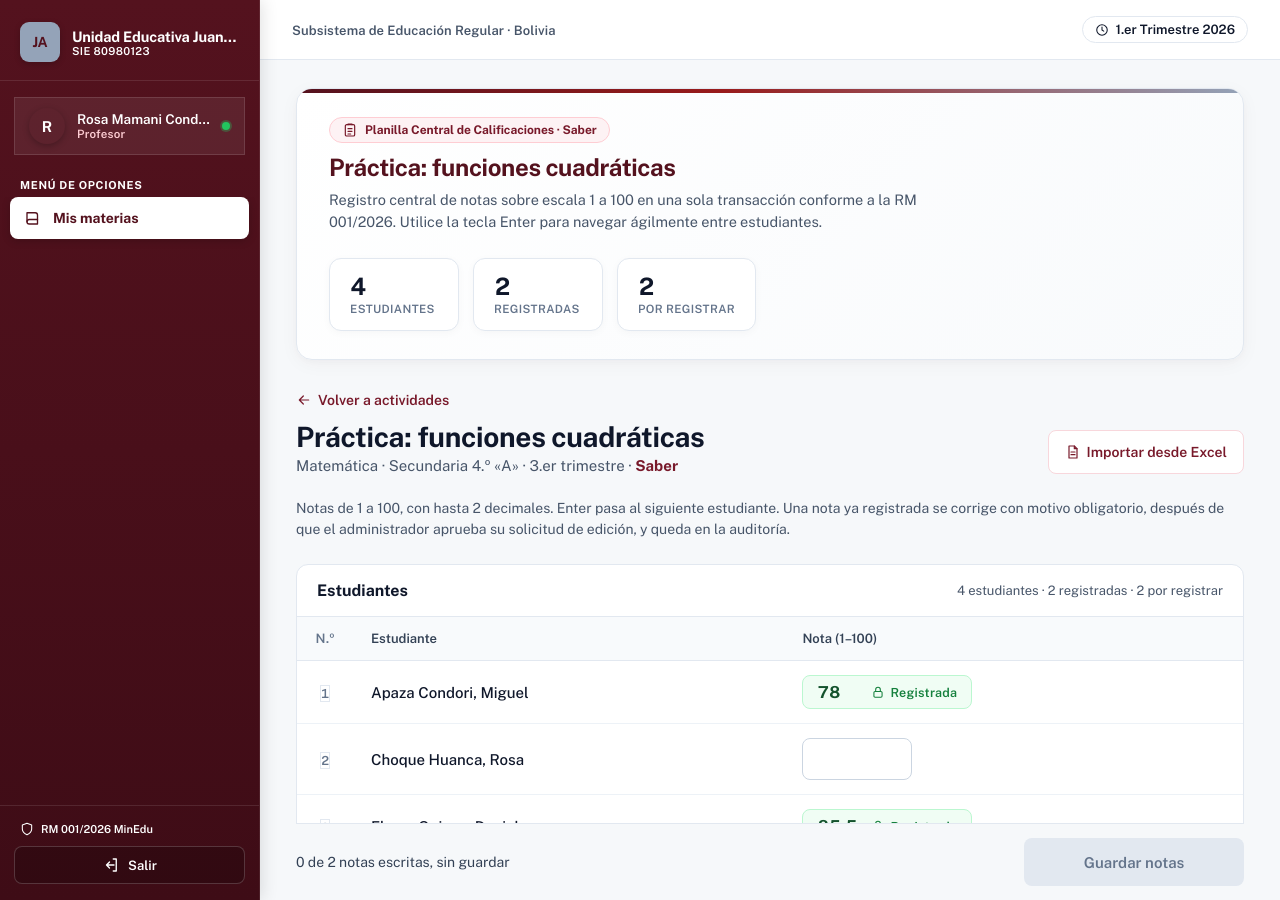
Scenario: Planilla de notas (US-01, criterios 1 a 3) › debe marcar una nota fuera de 1 a 100 junto al campo y no guardar nada
The image size is (1280, 900).
Type "105" into the field named "Nota de Choque Huanca, Rosa". click: (858, 759)
box: [802,738,912,780]
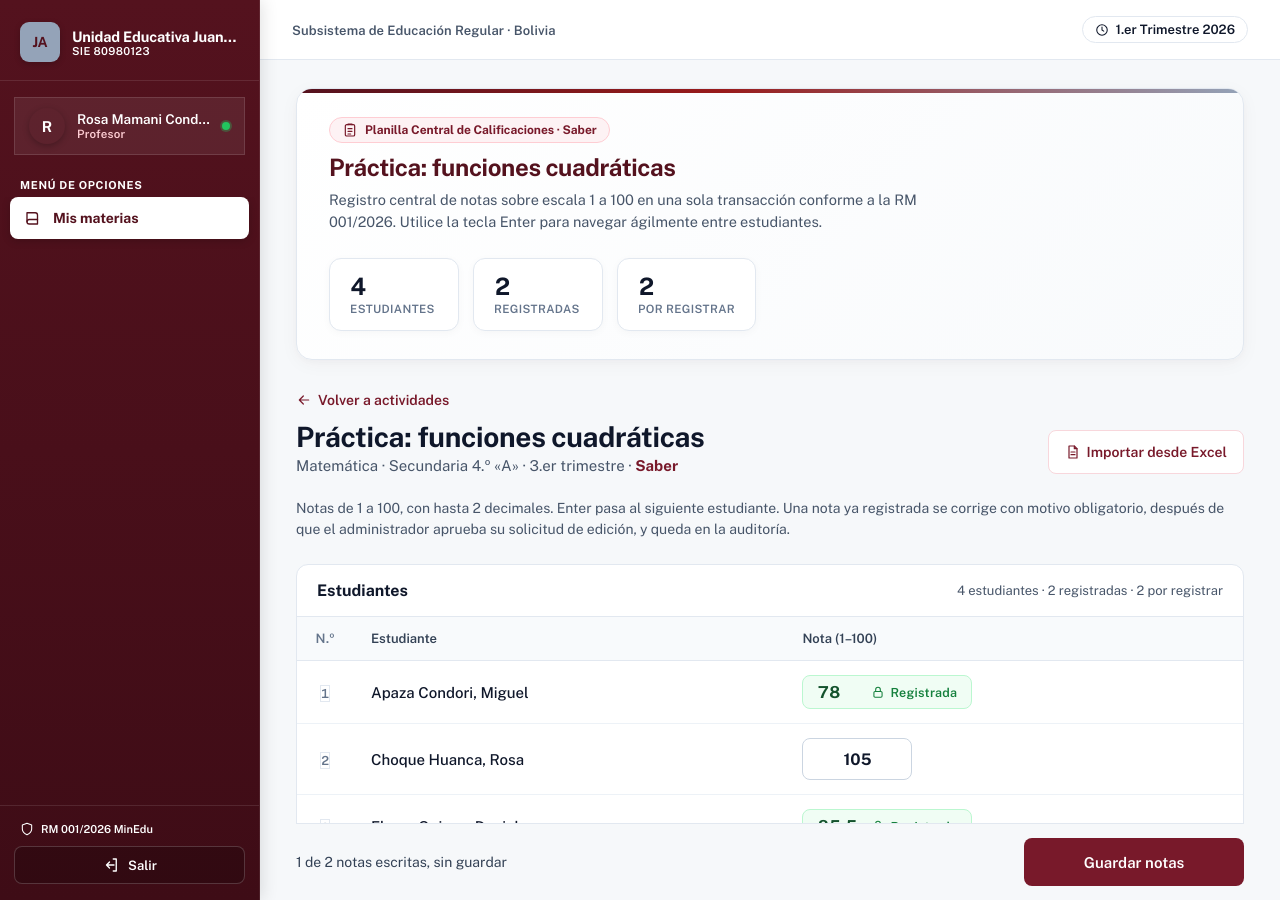
Click the button "Guardar notas". click: (1134, 862)
box: [1024,838,1244,886]
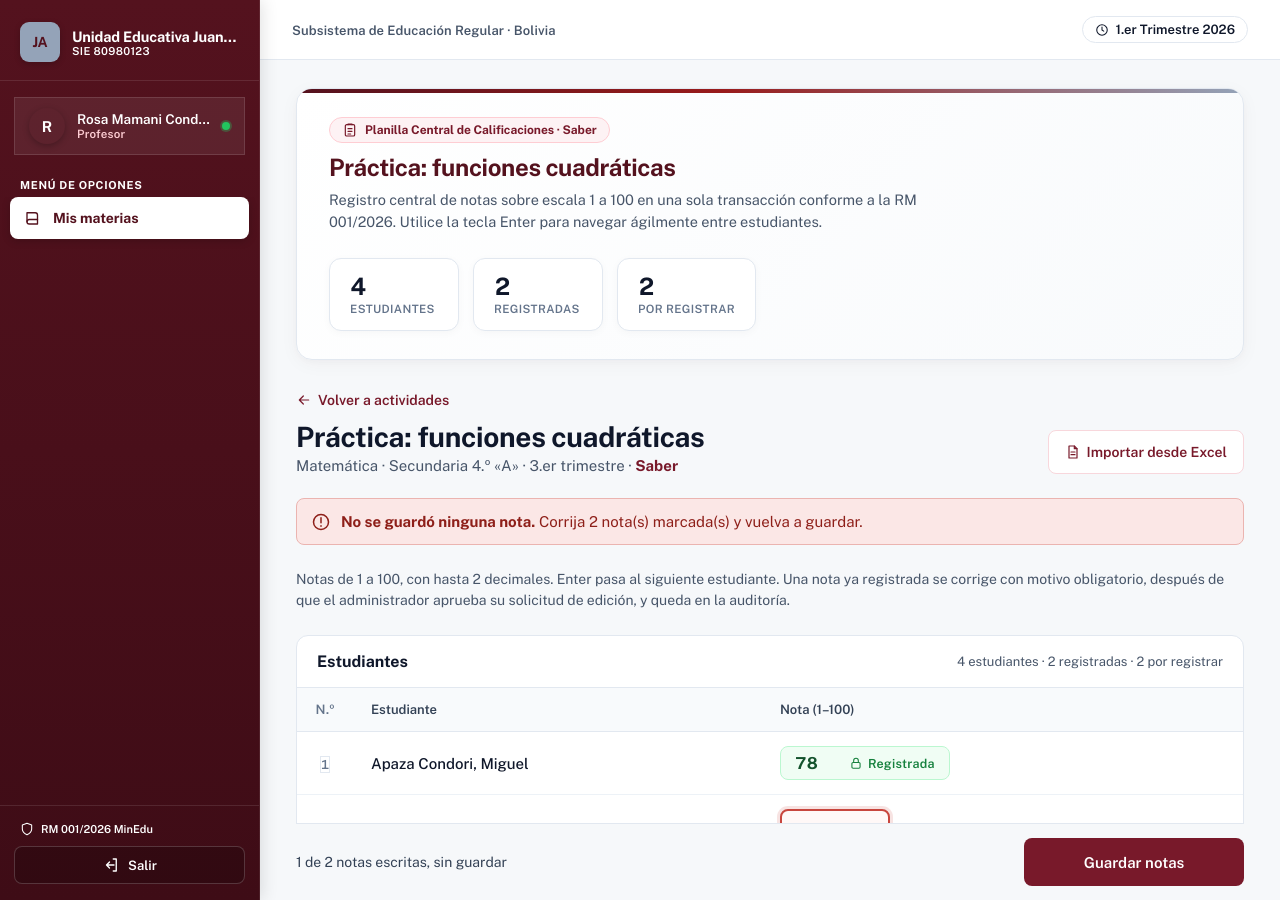
expect the message shows "No se guardó ninguna nota. Corrija 2 nota(s)": met, box [296,498,1244,545]
